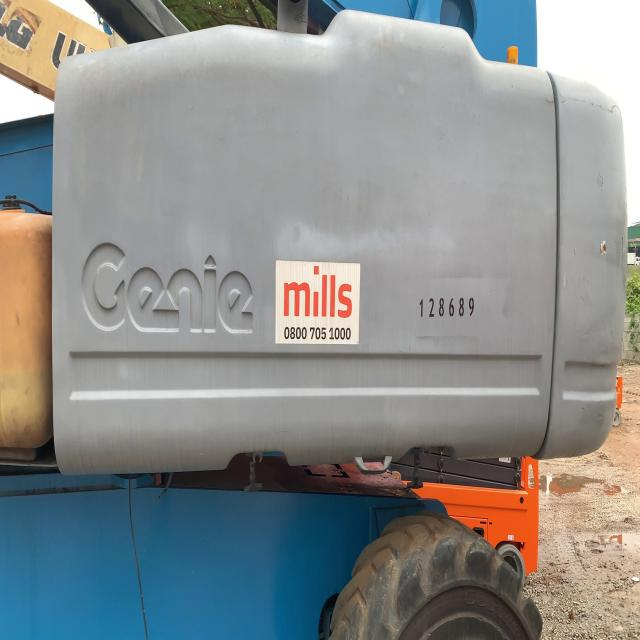Adesivos: (275, 260, 361, 346)
